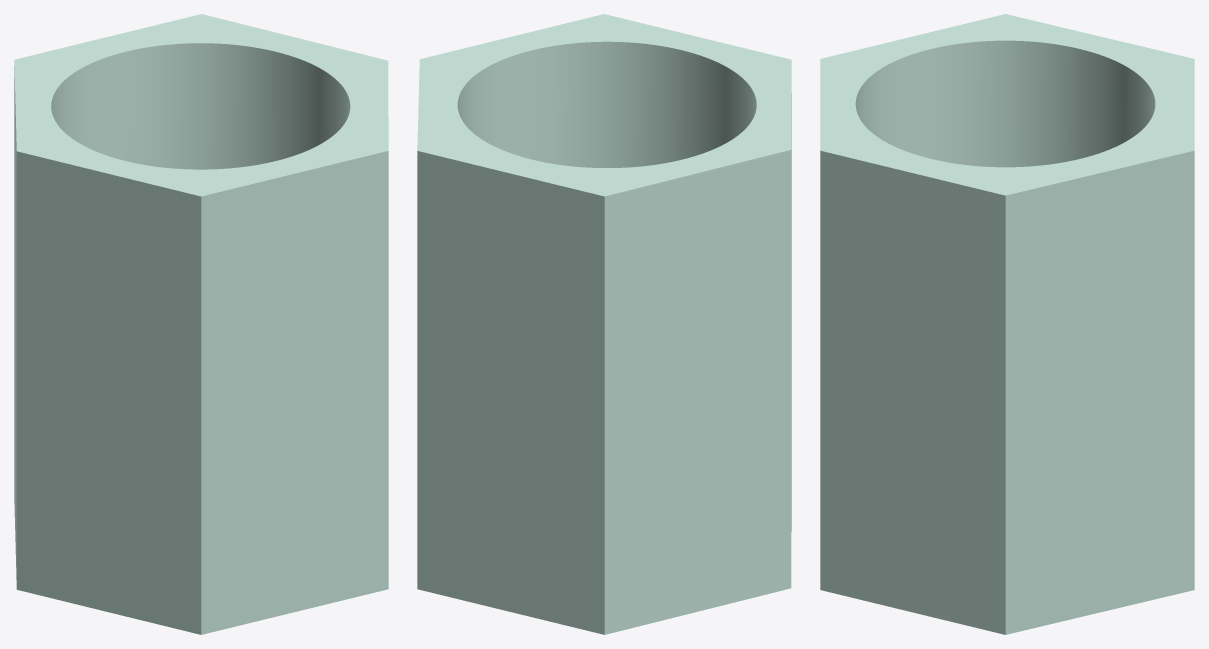
The picture shows the model from 3 angles, left to right: view 1: azimuth 30°, elevation 25°; view 2: azimuth 150°, elevation 25°; view 3: azimuth 270°, elevation 25°; orthographic projection.
Parts seen in each view (by area): view 1: Renderer Node; view 2: Renderer Node; view 3: Renderer Node.
Boxes of the visible parts, x1,y1,x2,y2 form: Renderer Node: (14,14,388,634); Renderer Node: (417,14,791,634); Renderer Node: (820,14,1194,634).
Bounding box in the file's own units: 0.1524 × 0.1719 × 0.1328.
